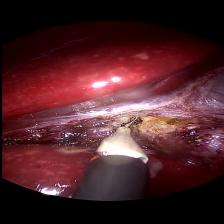Hook: (90, 113, 150, 162)
